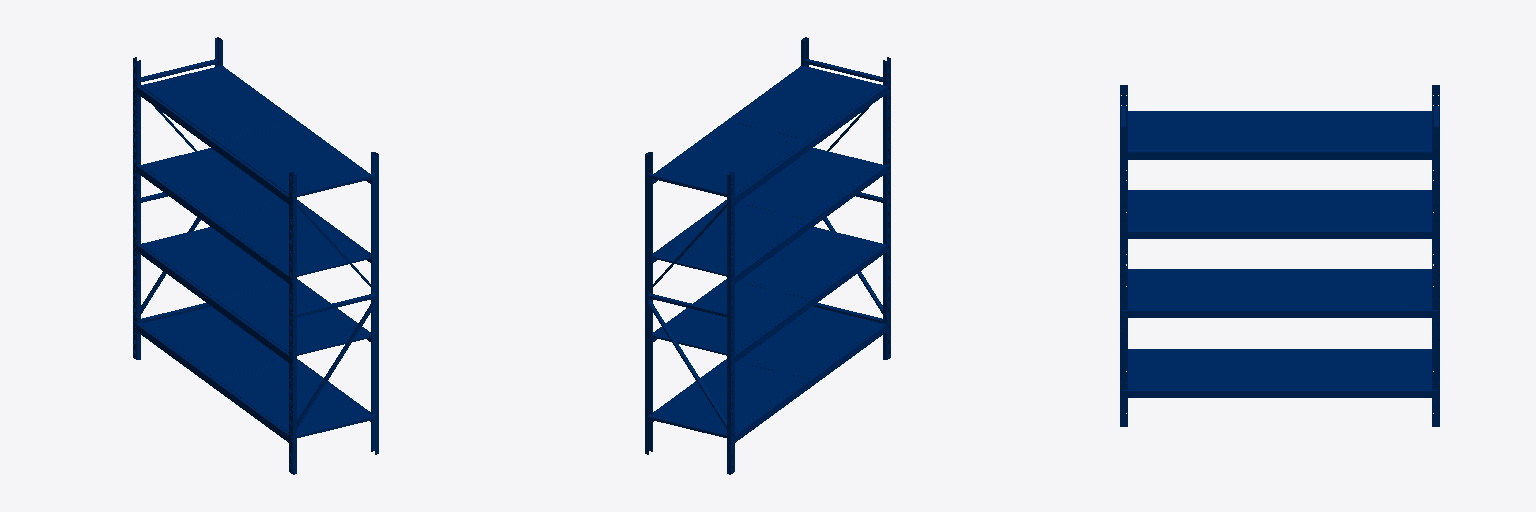
3 renders of one model, left to right at view 1: azimuth 30°, elevation 25°; view 2: azimuth 150°, elevation 25°; view 3: azimuth 270°, elevation 25°, orthographic.
Parts seen in each view (by area): view 1: 货架_test2.001; view 2: 货架_test2.001; view 3: 货架_test2.001.
Part boxes in pixels (bbox=[...]): 货架_test2.001: bbox=[133, 37, 378, 474]; 货架_test2.001: bbox=[645, 37, 890, 474]; 货架_test2.001: bbox=[1120, 85, 1439, 426].
Bounding box in the file's own units: 2.8 × 9.28 × 9.01.